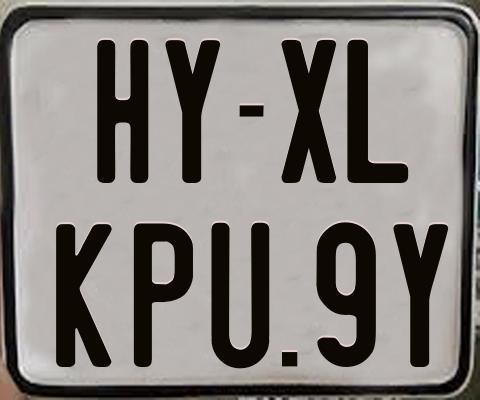9: (315, 219, 379, 364)
H: (95, 37, 148, 180)
K: (54, 224, 112, 373)
L: (344, 37, 408, 183)
P: (133, 223, 195, 372)
U: (210, 222, 272, 374)
X: (280, 39, 340, 187)
Y: (391, 221, 449, 369), (165, 39, 222, 185)
